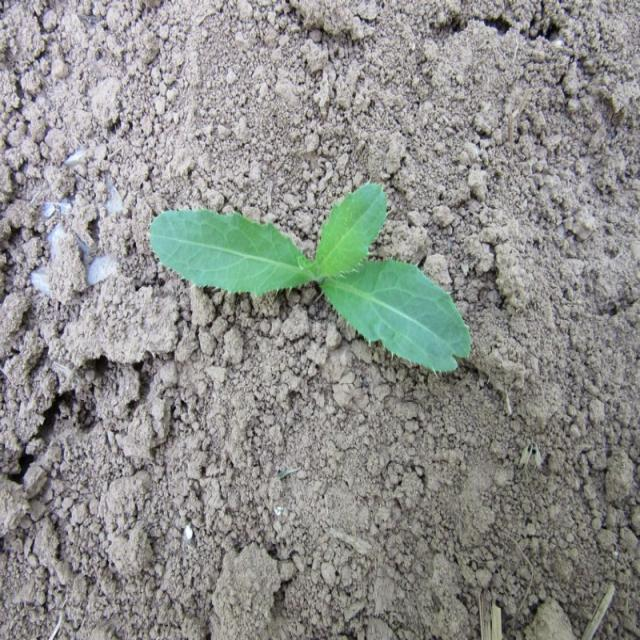field_thistle: (148, 170, 466, 392)
